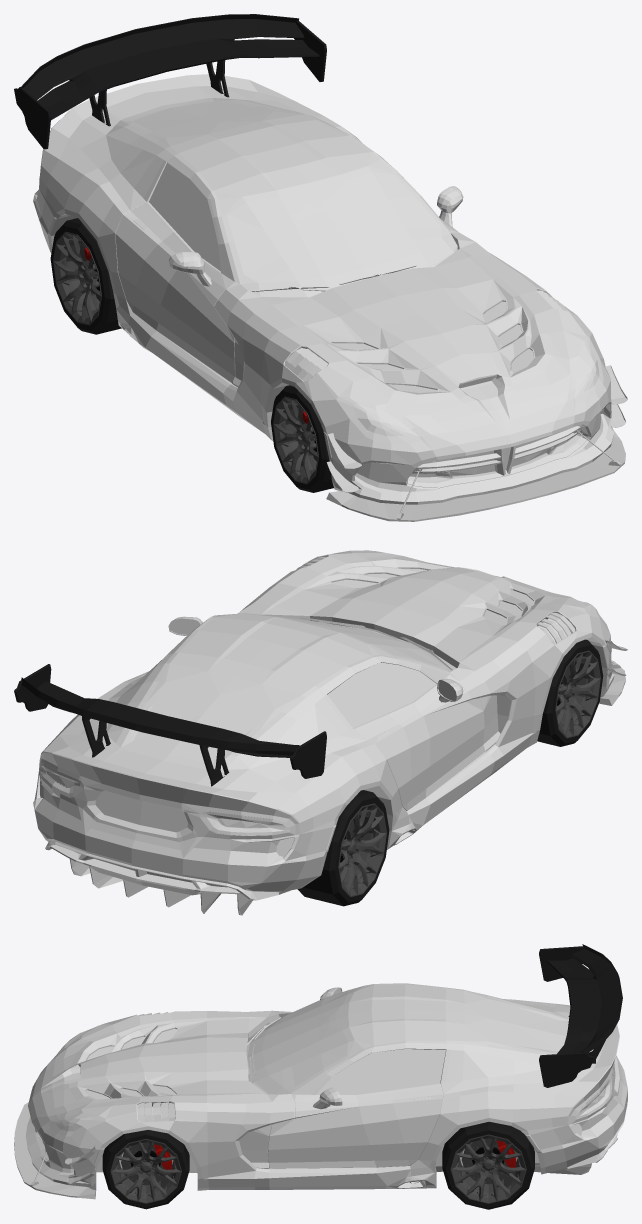
The model's file is LP_Veh_Muscle_22.fbx.
3 renders of one model, top to bottom at view 1: azimuth 30°, elevation 25°; view 2: azimuth 150°, elevation 25°; view 3: azimuth 270°, elevation 25°, orthographic. The views are drawn at different scales.
Parts seen in each view (by area): view 1: LP_Veh_Muscle_22, LP_Veh_Muscle_Glass_001_22, LP_Veh_Muscle_Spoiler_001_22, LP_Veh_Muscle_Lower lip bumper_22, LP_Veh_Muscle_Wheel_004_22, LP_Veh_Muscle_Wheel_002_22, LP_Veh_Muscle_Glass_002_22; view 2: LP_Veh_Muscle_22, LP_Veh_Muscle_Glass_001_22, LP_Veh_Muscle_Spoiler_001_22, LP_Veh_Muscle_Wheel_004_22, LP_Veh_Muscle_Wheel_002_22, LP_Veh_Muscle_Lower lip bumper_22; view 3: LP_Veh_Muscle_22, LP_Veh_Muscle_Glass_001_22, LP_Veh_Muscle_Spoiler_001_22, LP_Veh_Muscle_Wheel_003_22, LP_Veh_Muscle_Wheel_001_22, LP_Veh_Muscle_Lower lip bumper_22, LP_Veh_Muscle_Glass_002_22, LP_Veh_Muscle_Brake disk_003_22, LP_Veh_Muscle_Brake disk_001_22.001.
Part boxes in pixels (<box>): LP_Veh_Muscle_22: <box>33,74,614,504</box>; LP_Veh_Muscle_Glass_001_22: <box>133,101,441,282</box>; LP_Veh_Muscle_Spoiler_001_22: <box>14,14,326,149</box>; LP_Veh_Muscle_Lower lip bumper_22: <box>326,365,627,521</box>; LP_Veh_Muscle_Wheel_004_22: <box>50,218,121,334</box>; LP_Veh_Muscle_Wheel_002_22: <box>271,385,333,492</box>; LP_Veh_Muscle_Glass_002_22: <box>336,336,603,444</box>; LP_Veh_Muscle_22: <box>33,550,614,900</box>; LP_Veh_Muscle_Glass_001_22: <box>133,617,441,761</box>; LP_Veh_Muscle_Spoiler_001_22: <box>14,664,326,786</box>; LP_Veh_Muscle_Wheel_004_22: <box>297,790,389,906</box>; LP_Veh_Muscle_Wheel_002_22: <box>537,639,603,746</box>; LP_Veh_Muscle_Lower lip bumper_22: <box>69,640,627,915</box>; LP_Veh_Muscle_22: <box>25,983,627,1190</box>; LP_Veh_Muscle_Glass_001_22: <box>262,991,567,1094</box>; LP_Veh_Muscle_Spoiler_001_22: <box>539,944,622,1087</box>; LP_Veh_Muscle_Wheel_003_22: <box>442,1121,534,1209</box>; LP_Veh_Muscle_Wheel_001_22: <box>102,1130,189,1209</box>; LP_Veh_Muscle_Lower lip bumper_22: <box>14,1102,601,1199</box>; LP_Veh_Muscle_Glass_002_22: <box>49,1026,105,1136</box>; LP_Veh_Muscle_Brake disk_003_22: <box>461,1138,516,1184</box>; LP_Veh_Muscle_Brake disk_001_22.001: <box>121,1142,172,1185</box>.
Size of the model in its own units: 2.34 by 1.6 by 5.44.
